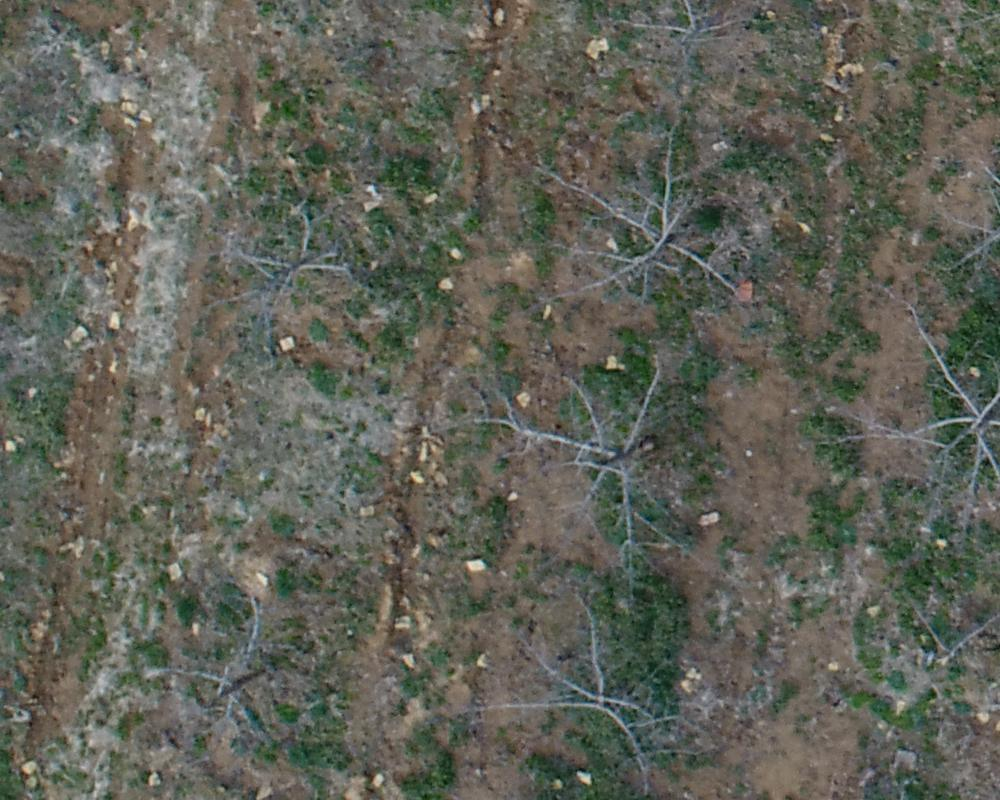apple: (452, 337, 731, 574), (518, 94, 772, 321), (467, 595, 716, 790), (824, 291, 990, 541), (123, 598, 319, 759), (176, 180, 381, 325), (871, 577, 990, 696), (596, 10, 760, 90)
